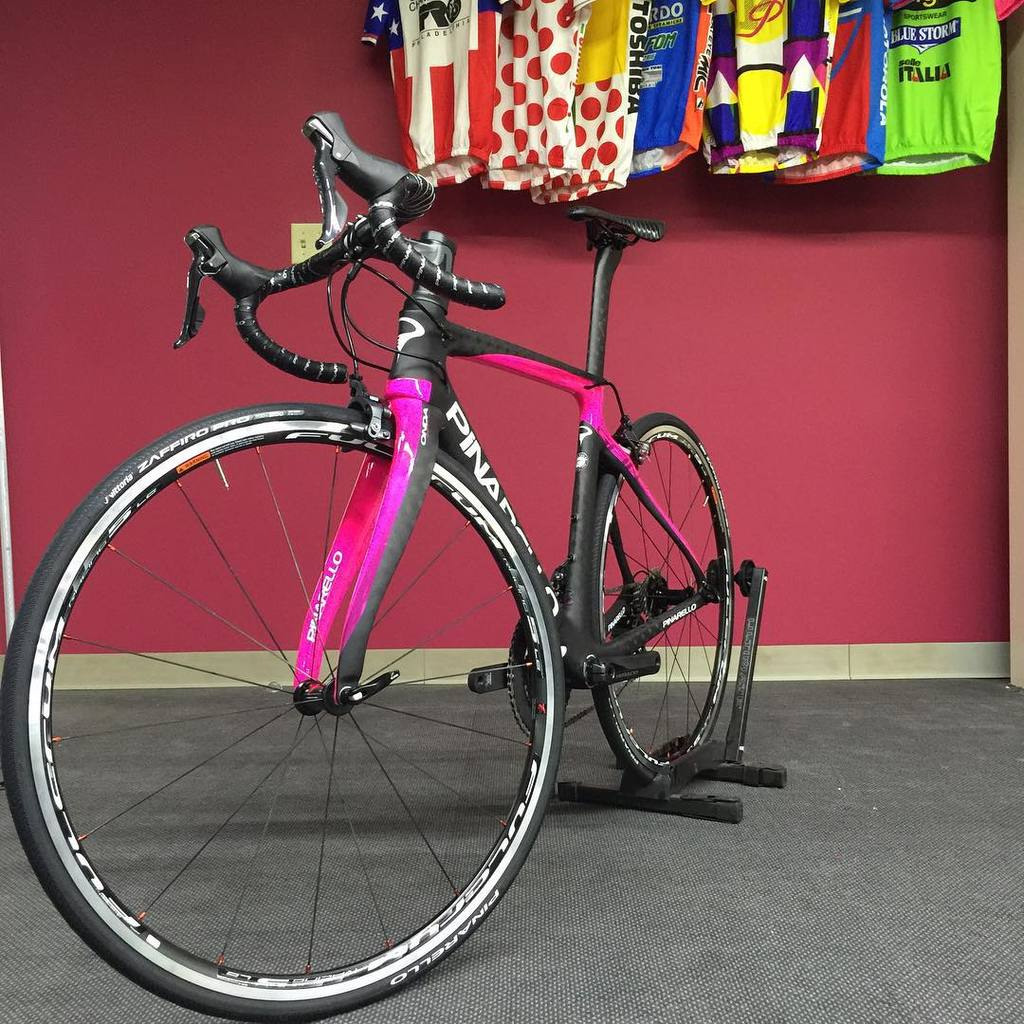Bike_toward: (91, 168, 684, 929)
